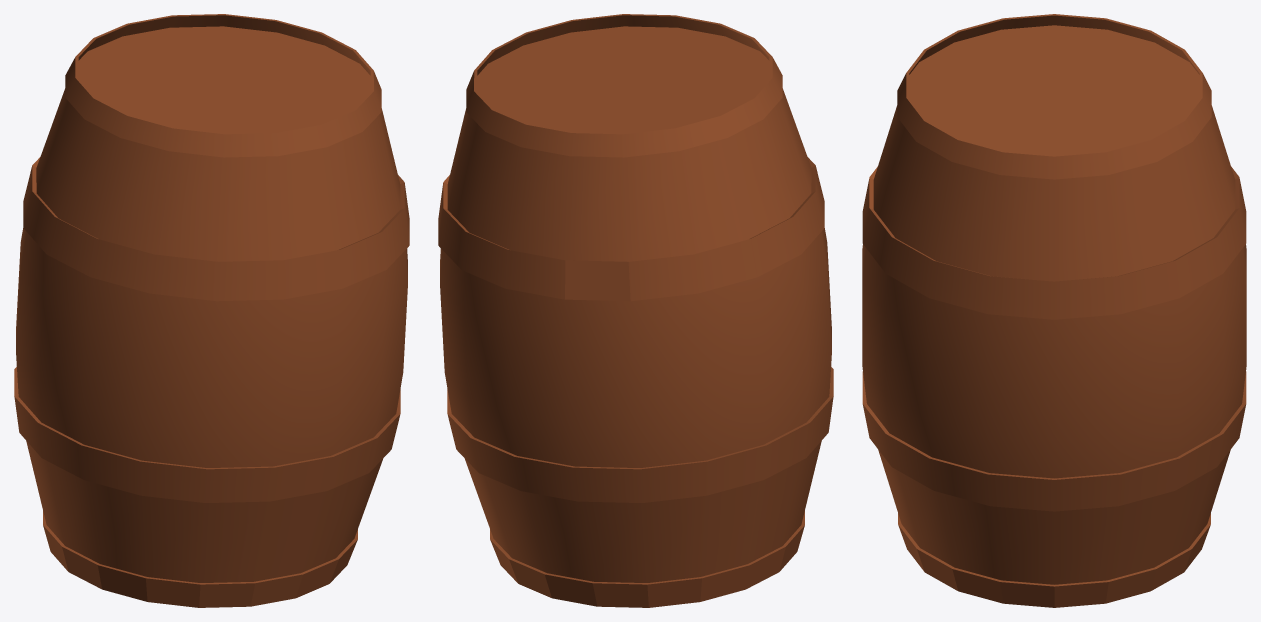
The model's file is mutong2.FBX.
3 renders of one model, left to right at view 1: azimuth 30°, elevation 25°; view 2: azimuth 150°, elevation 25°; view 3: azimuth 270°, elevation 25°, orthographic.
Parts seen in each view (by area): view 1: c148; view 2: c148; view 3: c148.
Boxes of the visible parts, x1=… form: c148: x1=14, y1=14, x2=409, y2=607; c148: x1=438, y1=14, x2=833, y2=607; c148: x1=862, y1=14, x2=1246, y2=607.
Size of the model in its own units: 0.5181 by 0.6866 by 0.4989.
